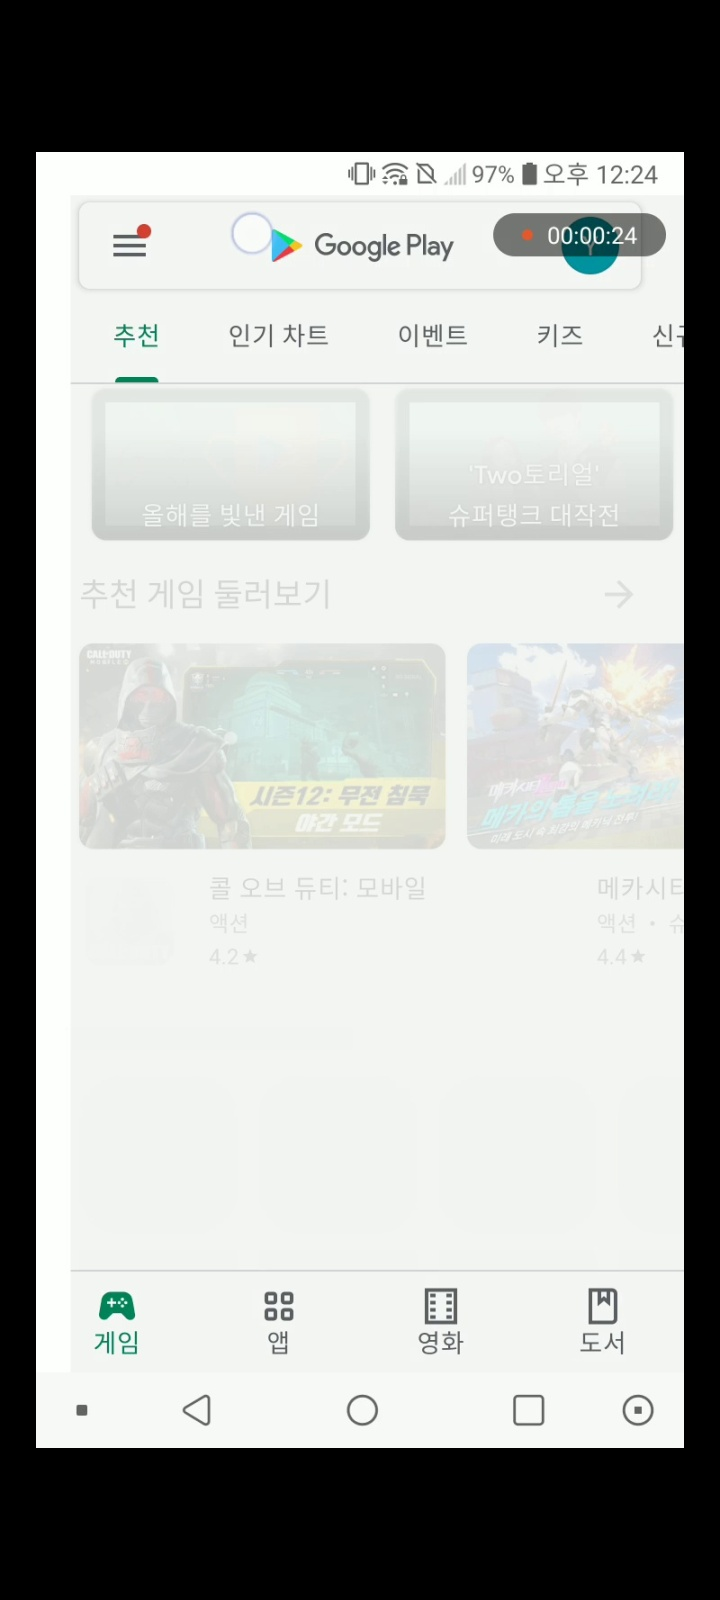Cursor: (230, 210, 275, 256)
